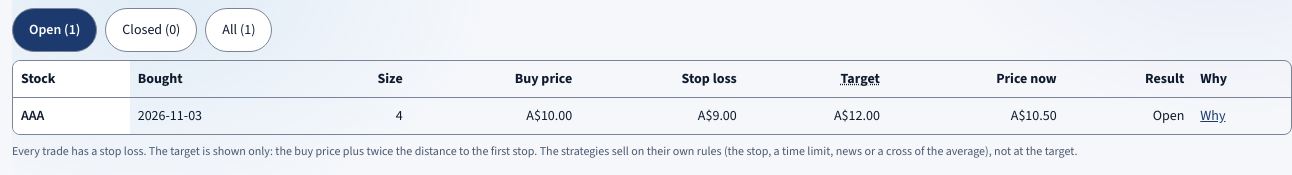
Test: TradesTable (D-884, D-885) › a round with no closed trade says so on Closed
What coordinates should you click on to do the following:
click the button "Closed (0)"
I would click on:
 (151, 30)
Its box is 105,8 -> 197,52.
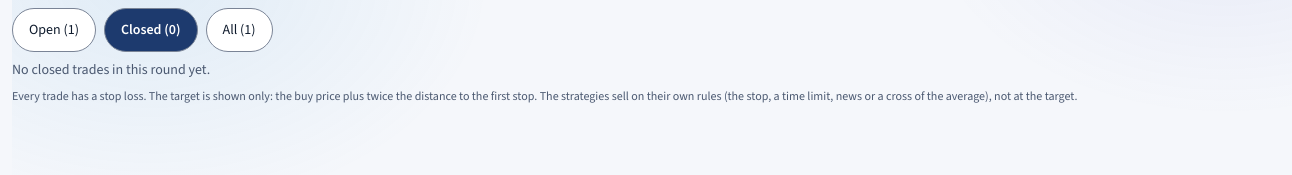
Check: the text "No closed trades in this round yet." is shown, box 12,60 -> 210,79
